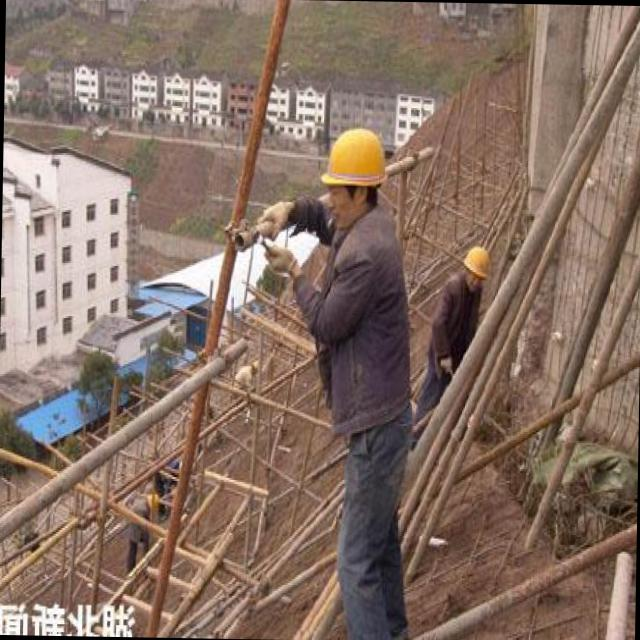helmet: (316, 118, 394, 235), (456, 238, 491, 298)
